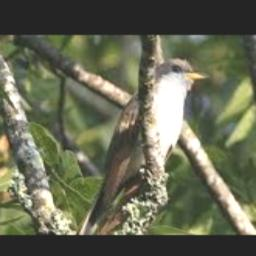Cuckoo: (76, 59, 209, 235)
